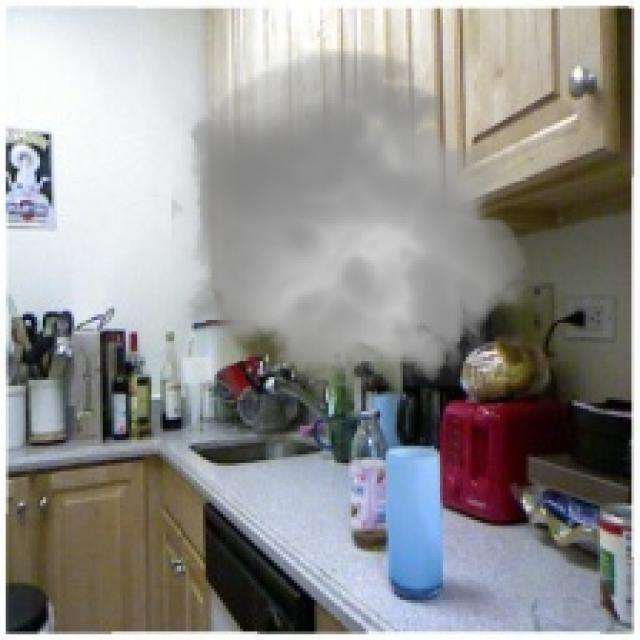Smoke: (171, 37, 540, 403)
